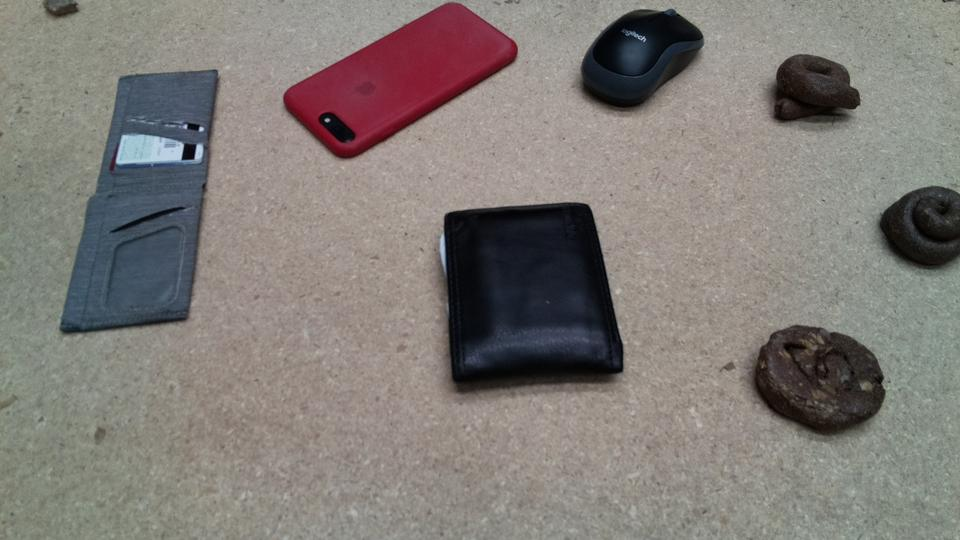poop: (753, 322, 891, 439), (876, 181, 960, 272), (770, 50, 864, 126)
